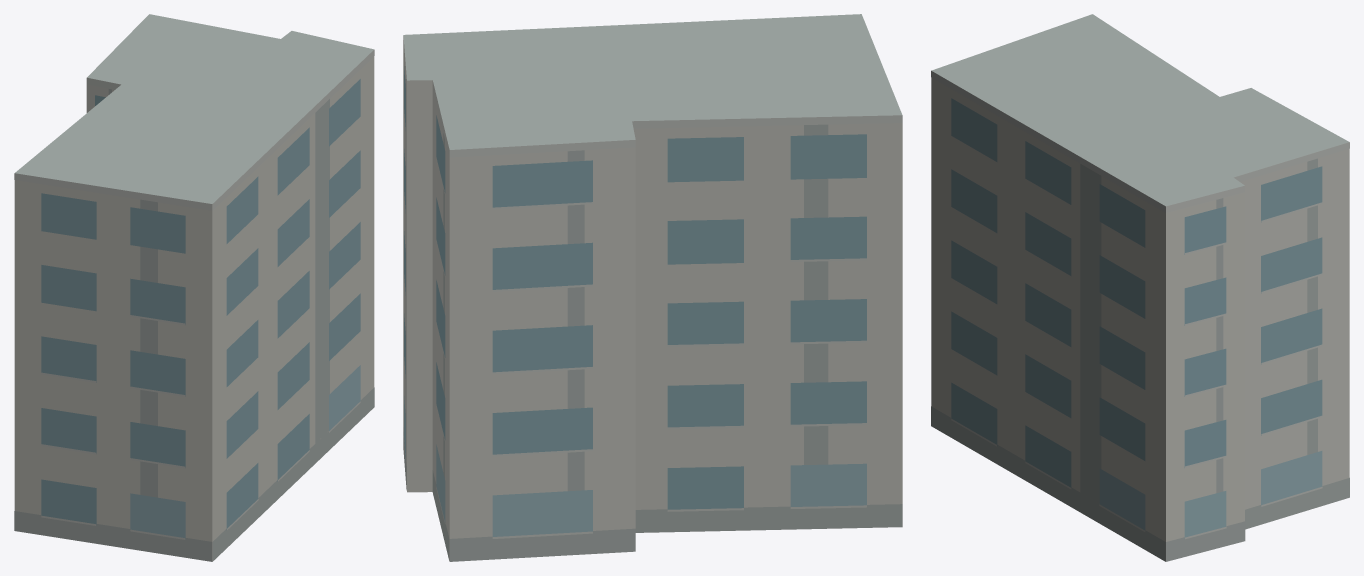
Rendered from survey-upis-32886112.glb.
The picture shows the model from 3 angles, left to right: view 1: azimuth 30°, elevation 25°; view 2: azimuth 150°, elevation 25°; view 3: azimuth 270°, elevation 25°; orthographic projection. The views are drawn at different scales.
Parts seen in each view (by area): view 1: survey-upis-32886112.tmp; view 2: survey-upis-32886112.tmp; view 3: survey-upis-32886112.tmp.
Boxes of the visible parts, x1,y1,x2,y2 form: survey-upis-32886112.tmp: (14,14,374,561); survey-upis-32886112.tmp: (403,14,902,561); survey-upis-32886112.tmp: (931,14,1349,561).
Size of the model in its own units: 15.1 by 13 by 13.88.
